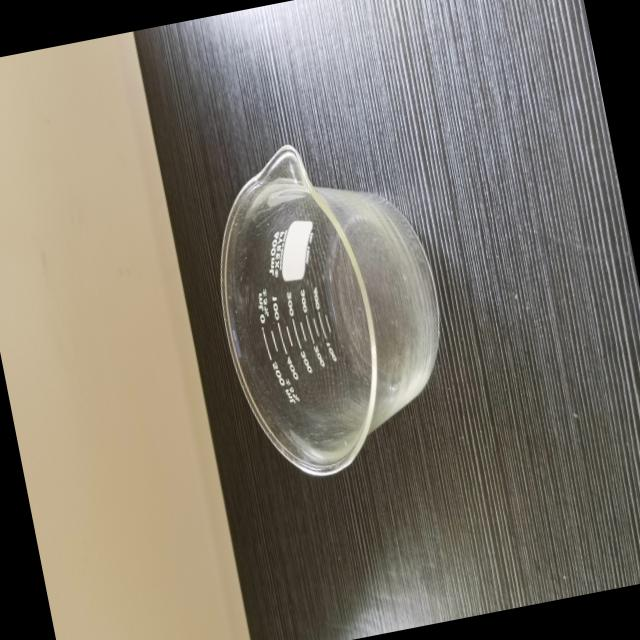beaker: (187, 116, 473, 497)
